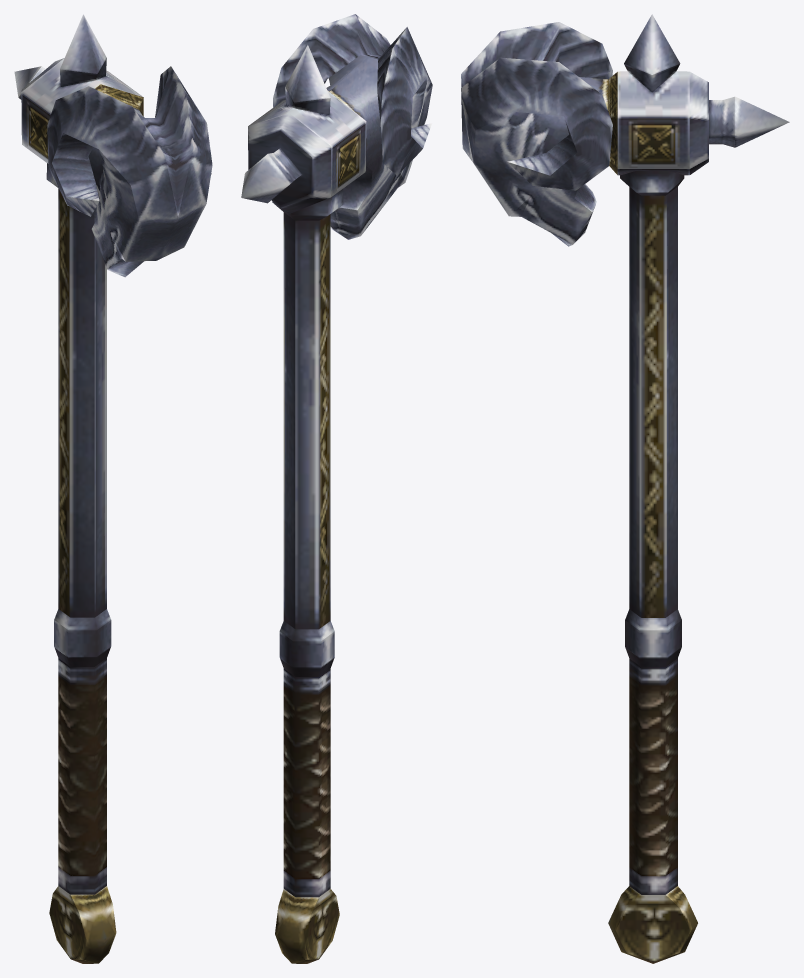
File: weapon.dae
The picture shows the model from 3 angles, left to right: view 1: azimuth 30°, elevation 25°; view 2: azimuth 150°, elevation 25°; view 3: azimuth 270°, elevation 25°; orthographic projection. The views are drawn at different scales.
Parts seen in each view (by area): view 1: Editable_Mesh; view 2: Editable_Mesh; view 3: Editable_Mesh.
Part boxes in pixels (bbox=[...]): Editable_Mesh: bbox=[14, 14, 212, 963]; Editable_Mesh: bbox=[241, 14, 432, 963]; Editable_Mesh: bbox=[461, 14, 789, 963].
Bounding box in the file's own units: 4.29 × 8.85 × 28.2.
1 material, 1 textured.
